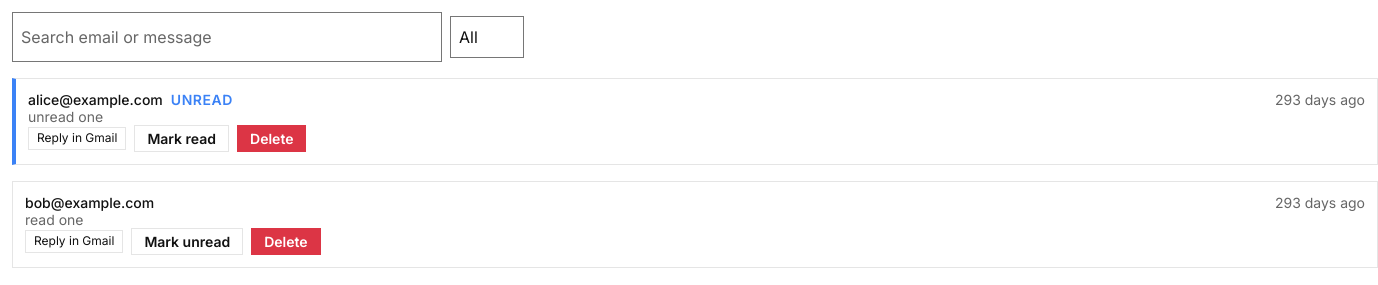
Test: CommentsList — read state › drops a row from the Unread view once it is marked read
Select "Unread" in the dropdown named "filter by read state": point(487, 37) [450,16,524,58]
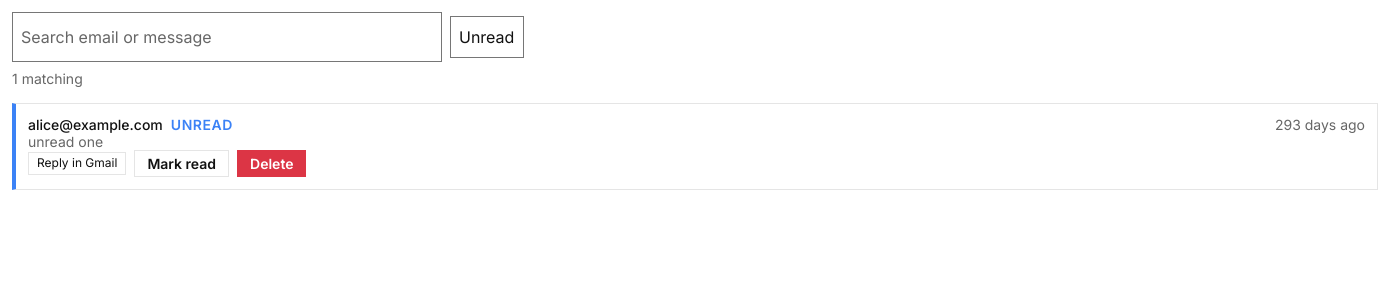
Click the button "Mark read": point(182, 164) [134,150,229,177]
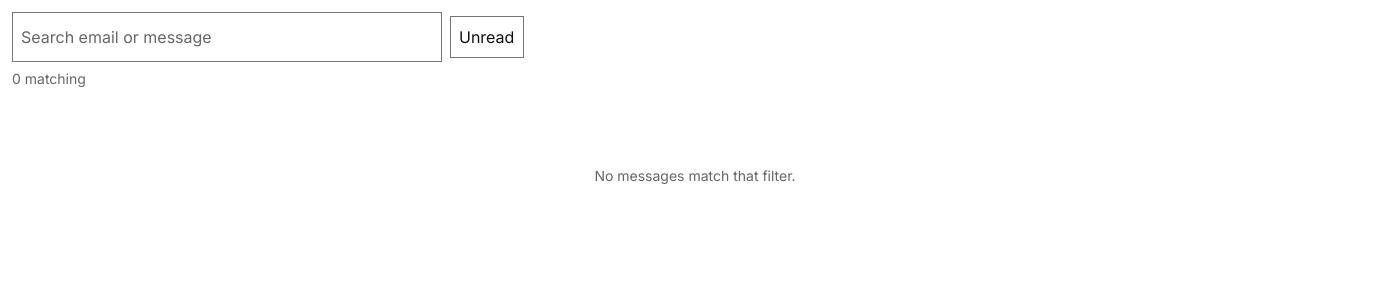
Expected: the text "unread one" is gone
Expected: the message reads "0 matching", [12,70,86,87]
